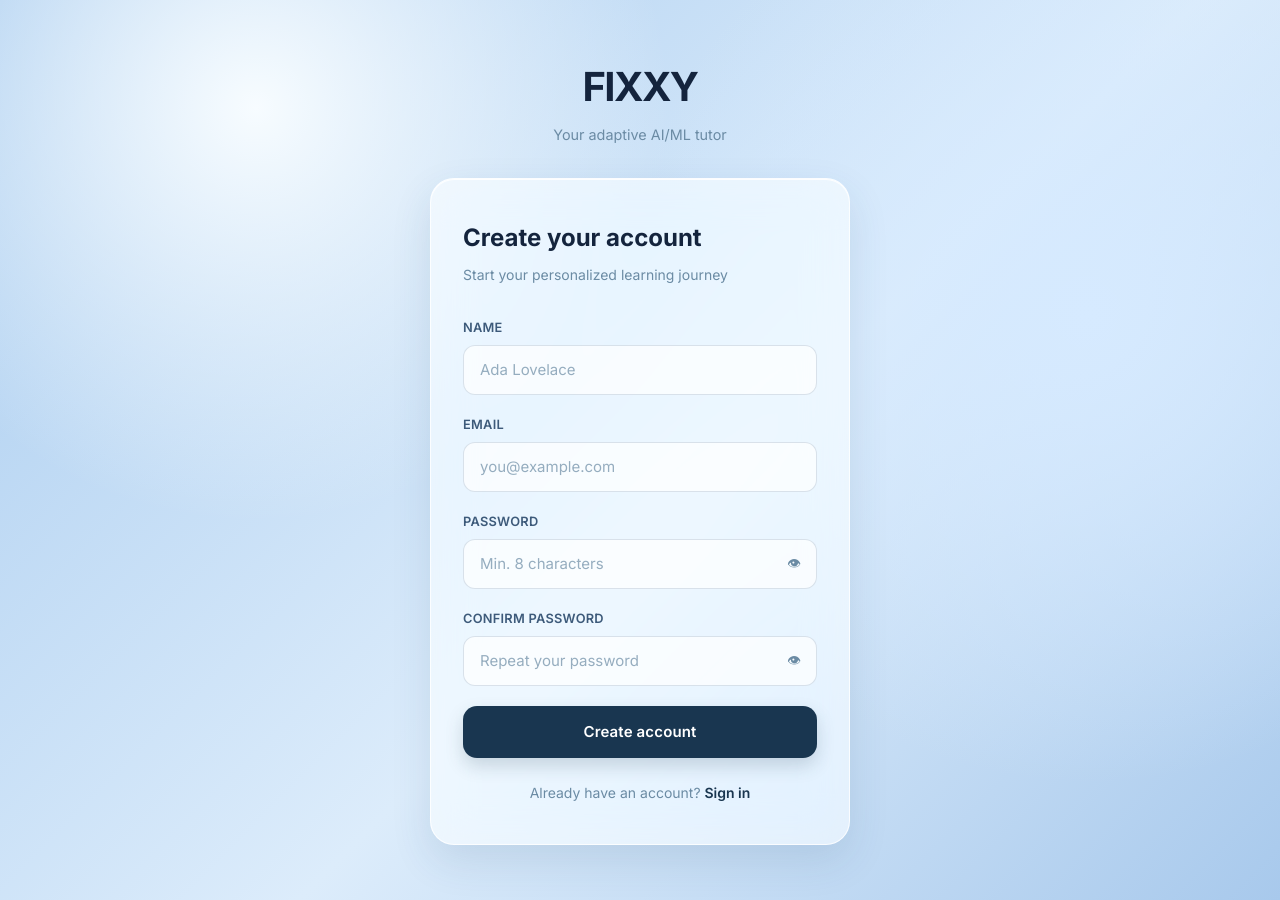
Test: RegisterPage › shows validation error for weak password
Type "Test User" into the field labelled "Name".
click(640, 370); type("Test User")  # box [463,345,817,395]
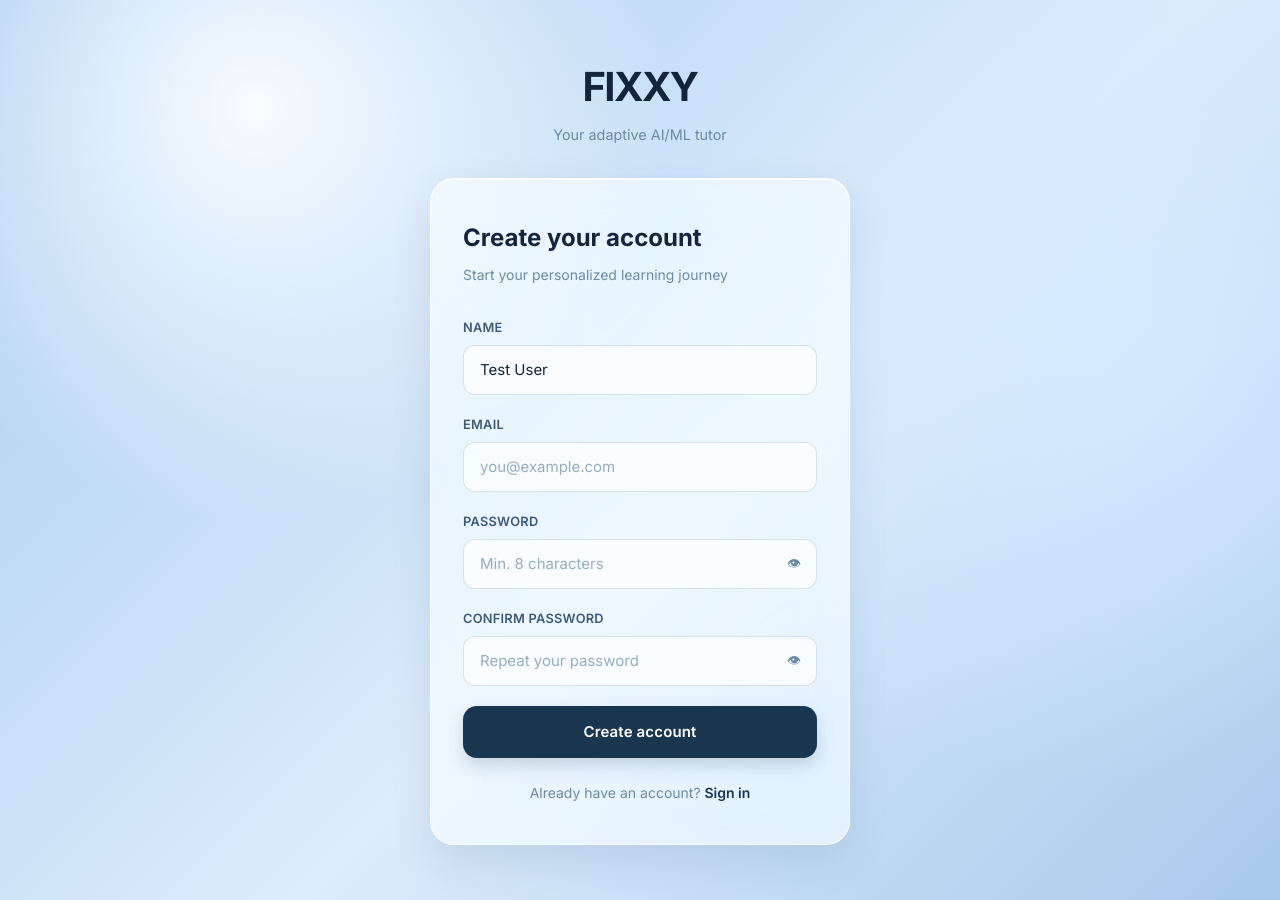
Type "test@example.com" into the field labelled "Email".
click(640, 467); type("test@example.com")  # box [463,442,817,492]
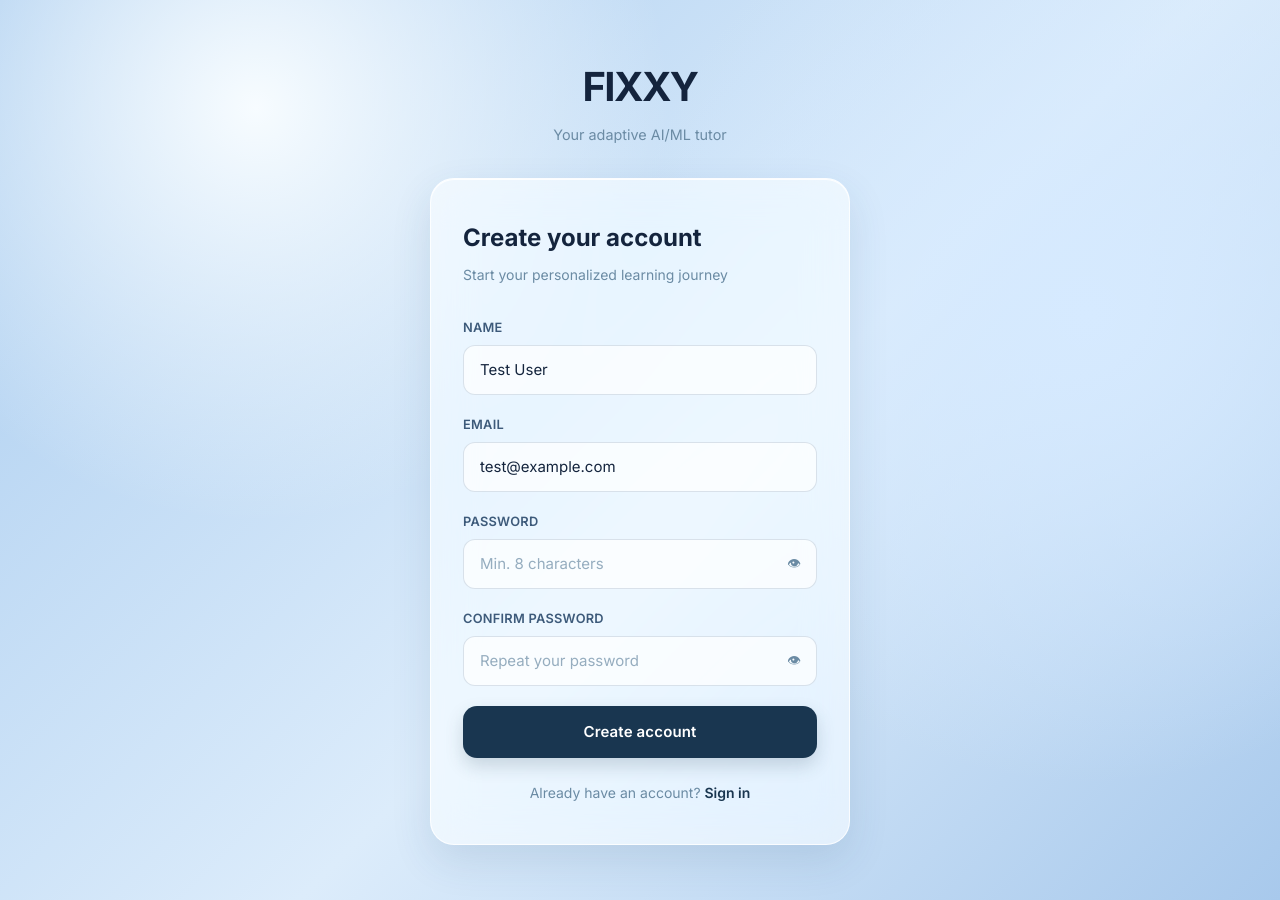
Type "weak" into the password field labelled "Password".
click(640, 564); type("weak")  # box [463,539,817,589]
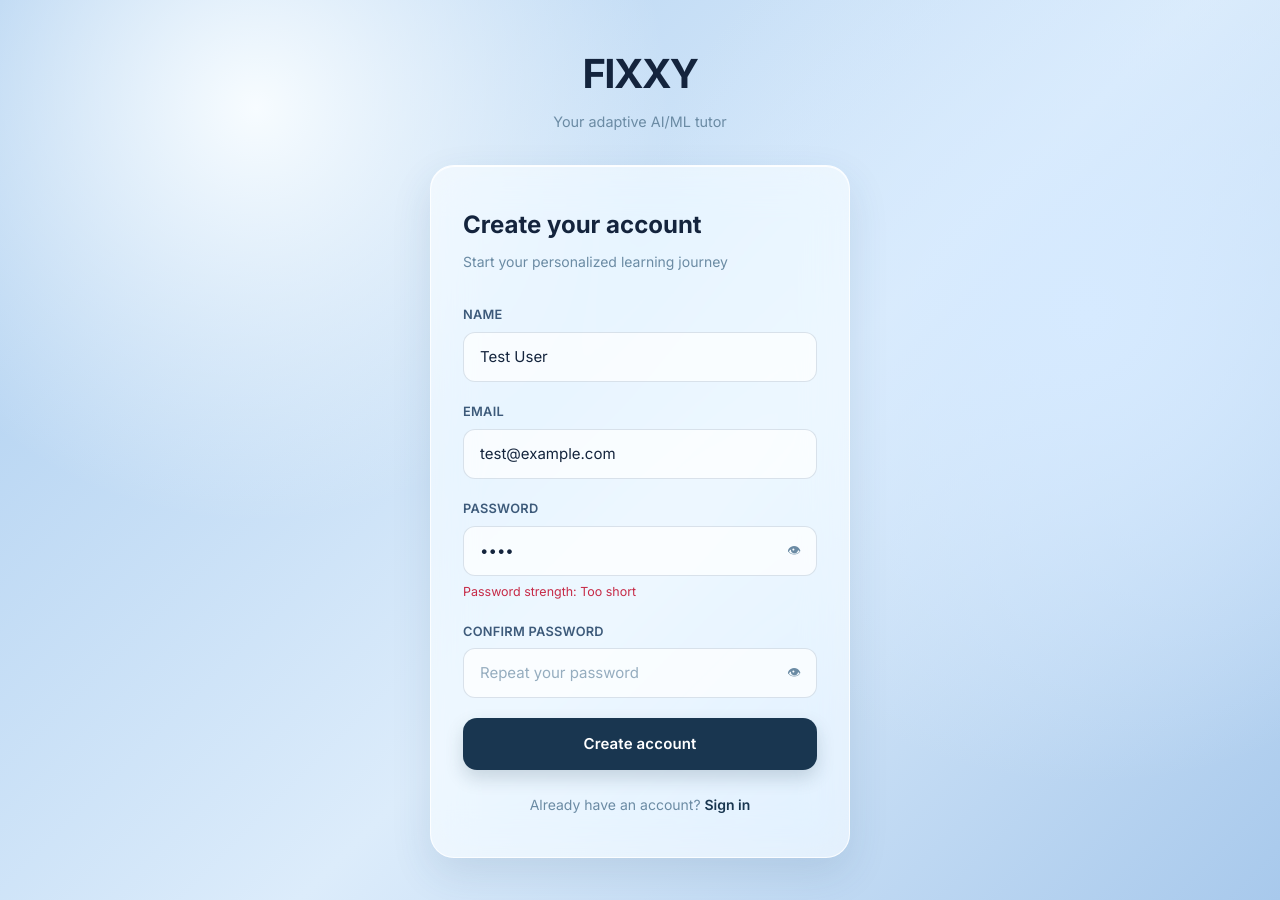
Click the button with id "register-submit".
click(640, 744)  # box [463,718,817,770]
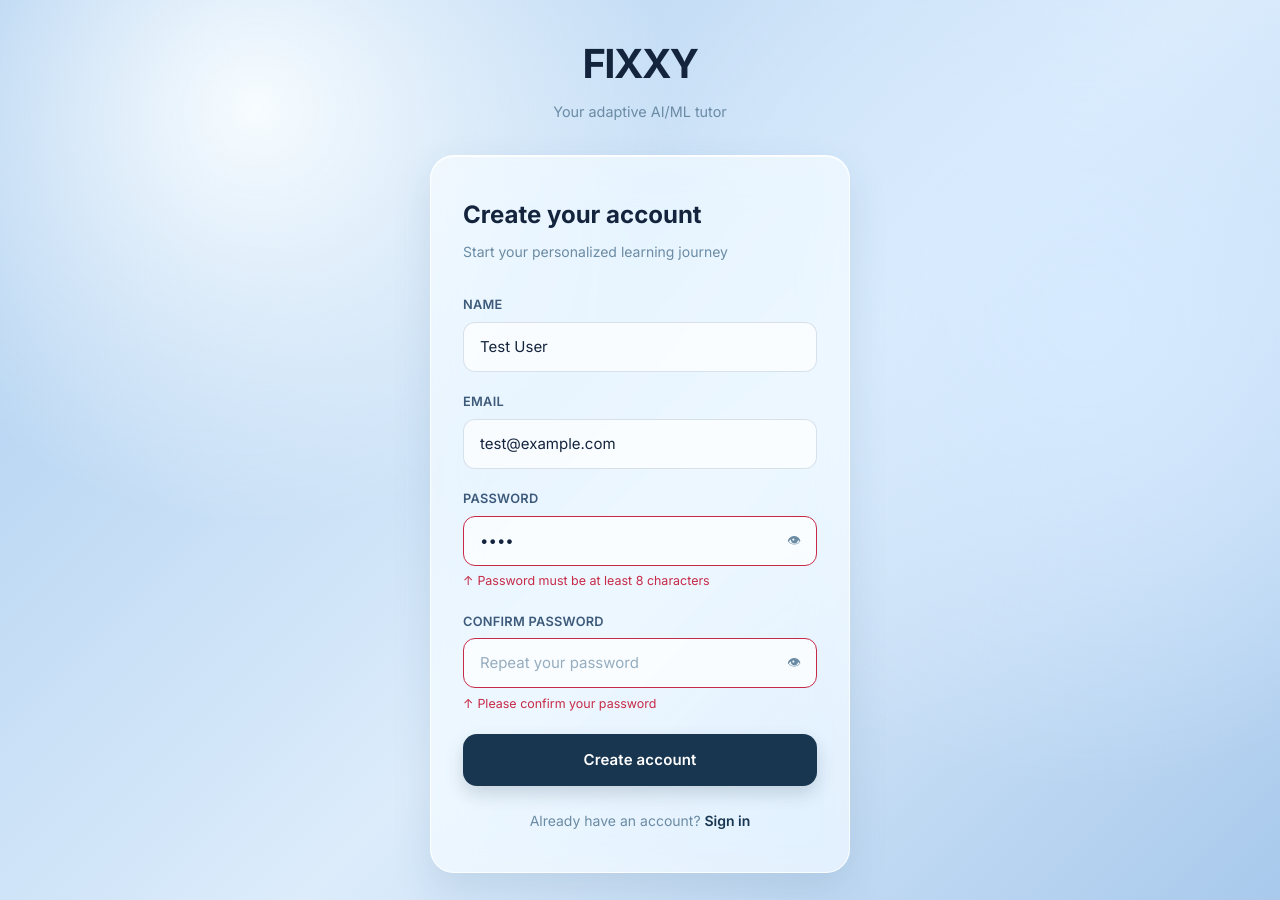
Expected: the text "↑ Password must be at least 8 characters" is shown, [463,573,710,588]
